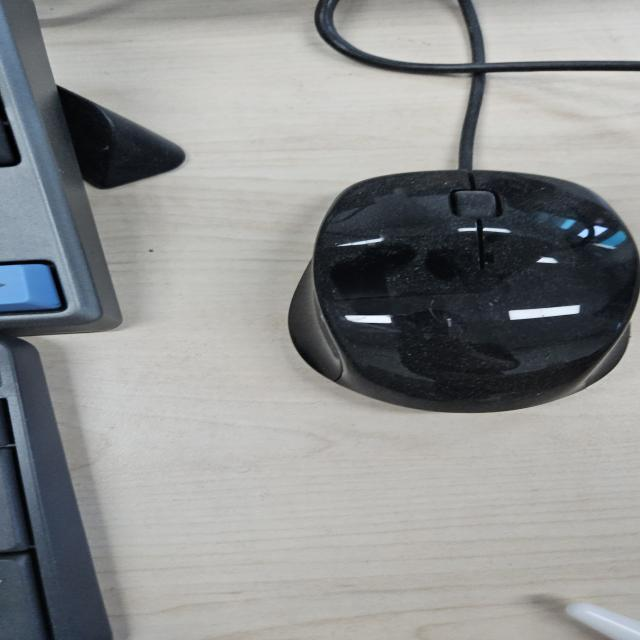Mouse: (284, 168, 636, 414)
